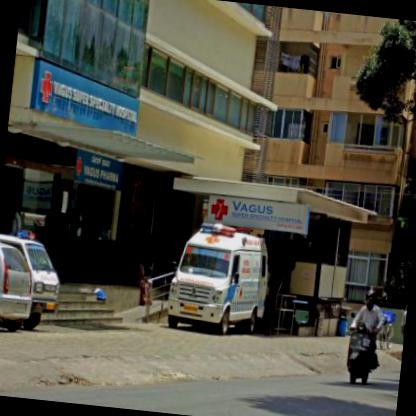truck: (164, 214, 274, 338), (0, 227, 69, 333)
